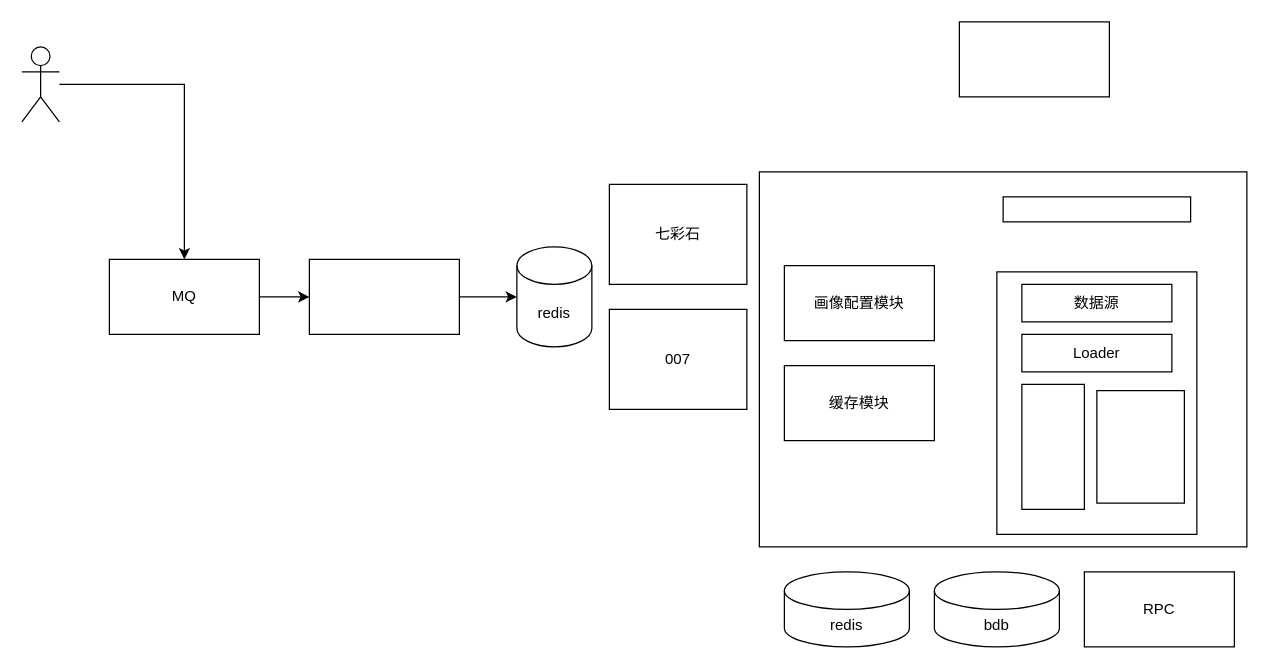
The diagram is 1269 pixels wide and 669 high, and some of its shapes have lost their labels. The shapes that lost their labels are listed below. From the top down, each one's centre as x and y in pixels, then its label:
At (x=40, y=84): "Actor".
At (x=1096, y=209): "Filter".
At (x=383, y=296): "Flink".
At (x=1052, y=446): "算子".
At (x=1140, y=446): "DAG".
